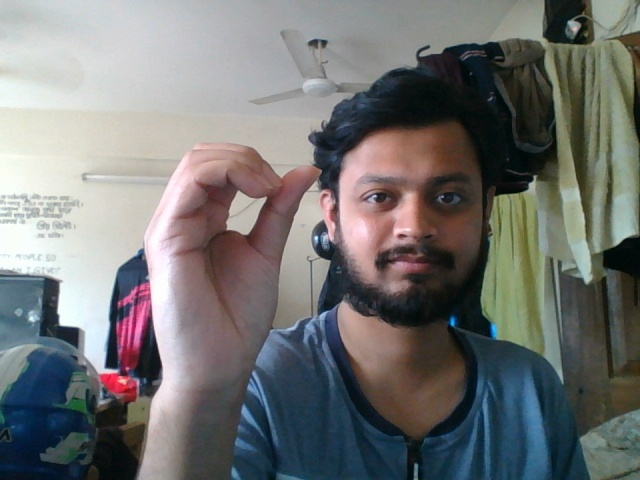ae: (132, 117, 325, 443)
